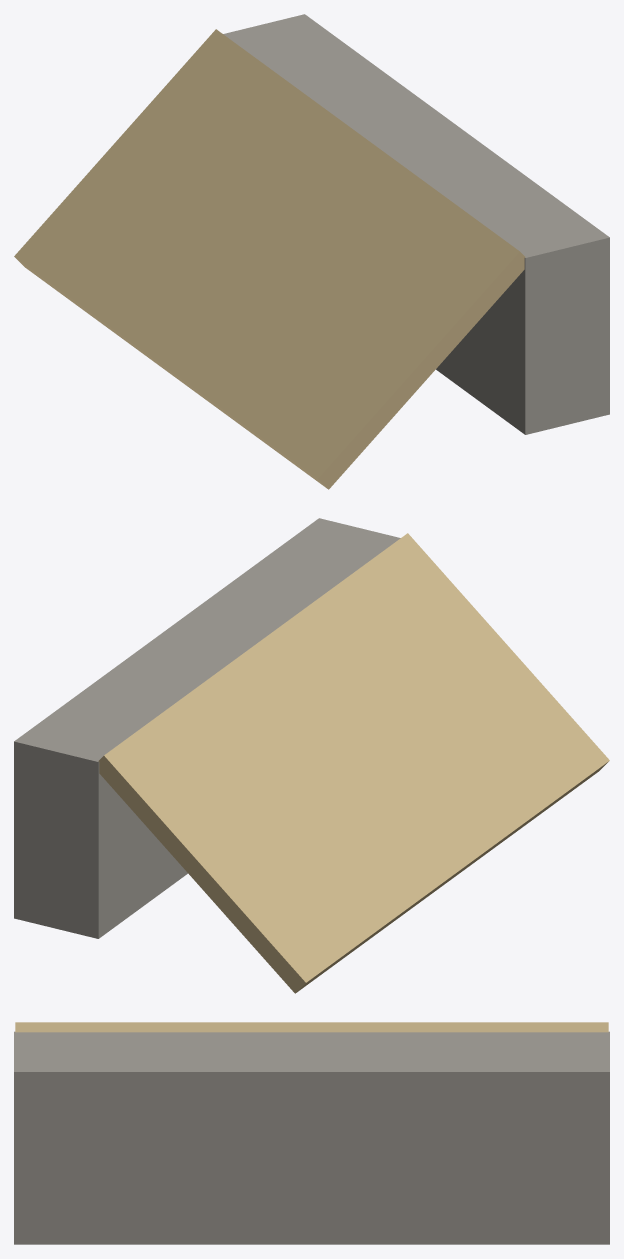
The model's file is quarter_pipe.glb.
The picture shows the model from 3 angles, top to bottom: view 1: azimuth 30°, elevation 25°; view 2: azimuth 150°, elevation 25°; view 3: azimuth 270°, elevation 25°; orthographic projection. The views are drawn at different scales.
Visible parts, largest first — view 1: Box2, Box1; view 2: Box2, Box1; view 3: Box1, Box2.
Part boxes in pixels (x1=…): Box2: x1=14, y1=29, x2=525, y2=489; Box1: x1=223, y1=14, x2=609, y2=434; Box2: x1=98, y1=533, x2=609, y2=993; Box1: x1=14, y1=518, x2=400, y2=938; Box1: x1=14, y1=1031, x2=609, y2=1244; Box2: x1=15, y1=1022, x2=608, y2=1032.
Size of the model in its own units: 2.76 by 1.73 by 5.
